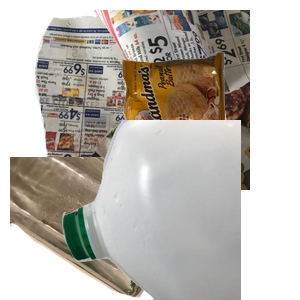glass: (10, 157, 190, 300)
paper: (32, 10, 272, 190)
plastic: (60, 120, 300, 300)
trash: (120, 50, 300, 182)
